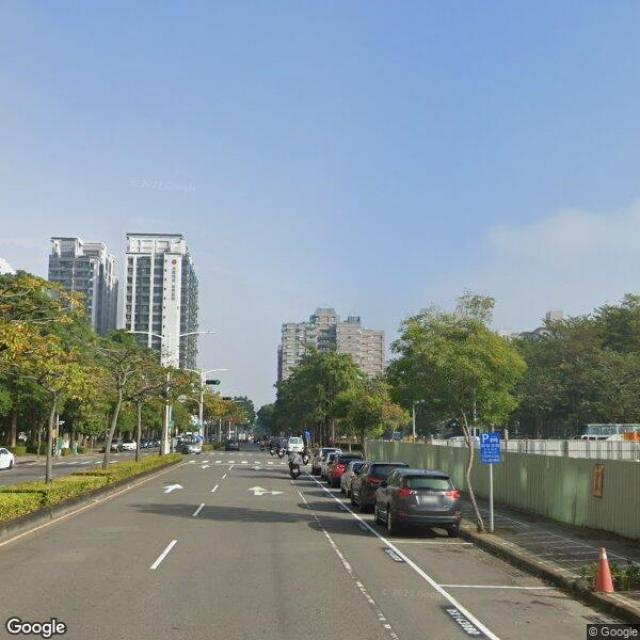Legalparking: (312, 448, 459, 536)
